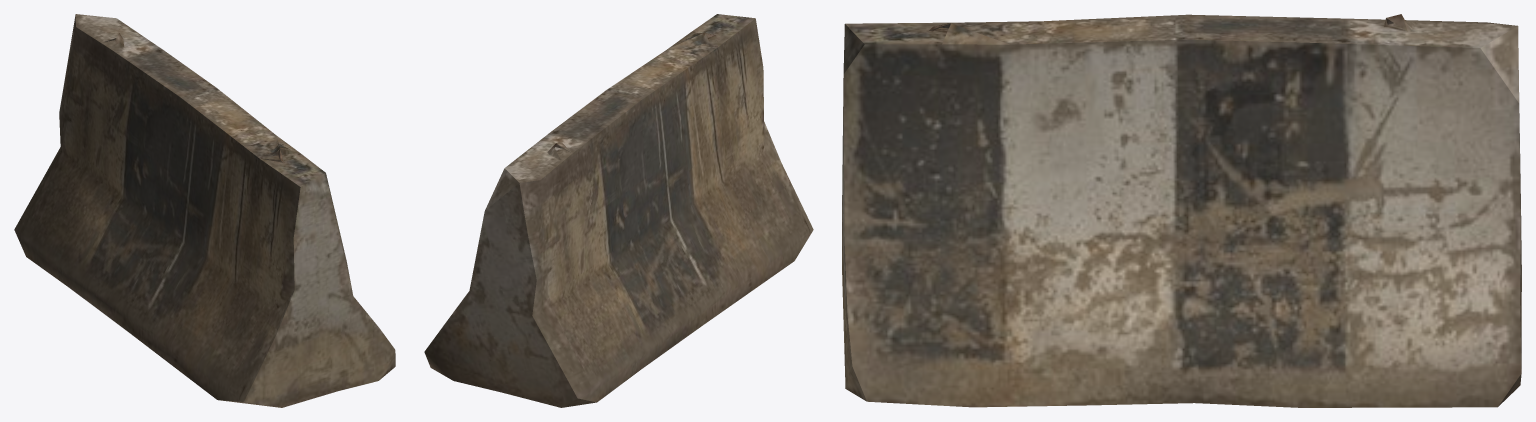
Rendered from road_barrier.glb.
3 renders of one model, left to right at view 1: azimuth 30°, elevation 25°; view 2: azimuth 150°, elevation 25°; view 3: azimuth 270°, elevation 25°, orthographic. The views are drawn at different scales.
Parts seen in each view (by area): view 1: road_barrier; view 2: road_barrier; view 3: road_barrier.
Part boxes in pixels (x1=…): road_barrier: x1=14, y1=14, x2=395, y2=407; road_barrier: x1=424, y1=14, x2=813, y2=407; road_barrier: x1=842, y1=14, x2=1521, y2=407.
Size of the model in its own units: 0.6323 by 0.8307 by 1.54.
1 material, 1 textured.
